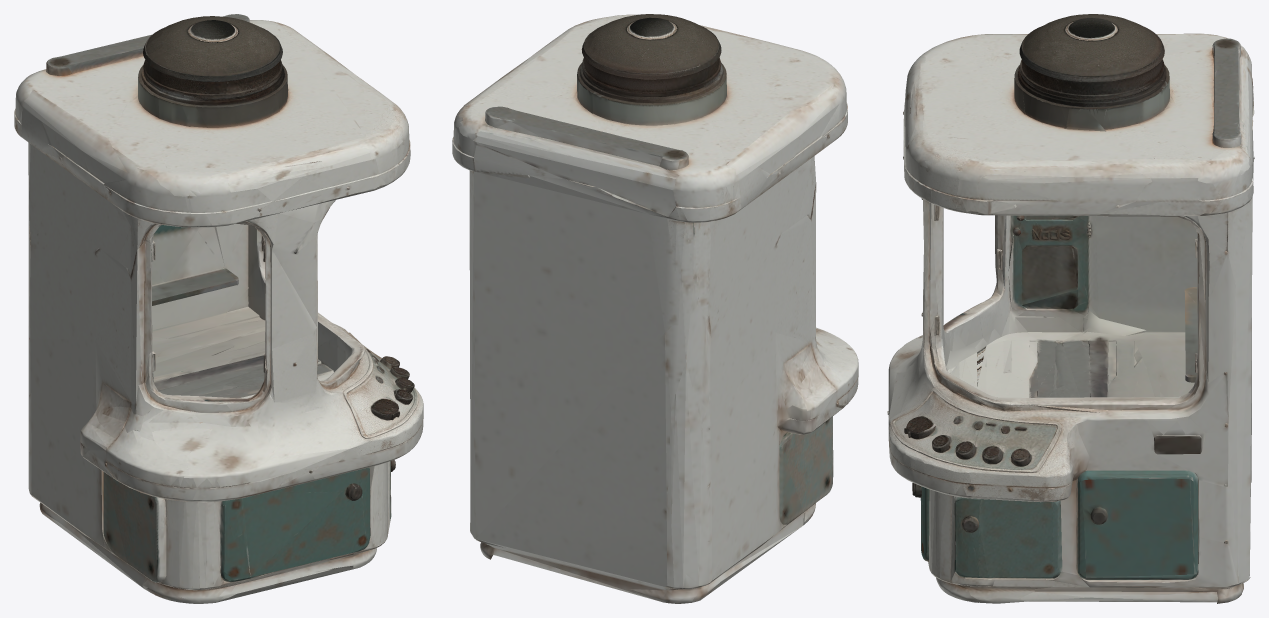
Rendered from tornello_imbarco.glb.
3 renders of one model, left to right at view 1: azimuth 30°, elevation 25°; view 2: azimuth 150°, elevation 25°; view 3: azimuth 270°, elevation 25°, orthographic. The views are drawn at different scales.
Bounding box in the file's own units: 1.19 × 1.9 × 1.2.
1 material, 1 textured.
